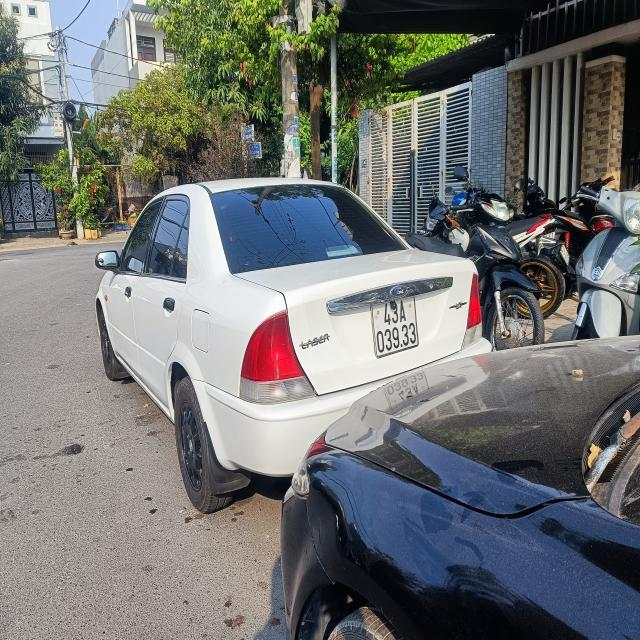car: (90, 174, 502, 518), (245, 412, 640, 640)
motorcycle: (449, 195, 566, 362), (563, 195, 640, 339)
plate: (362, 294, 429, 361)
